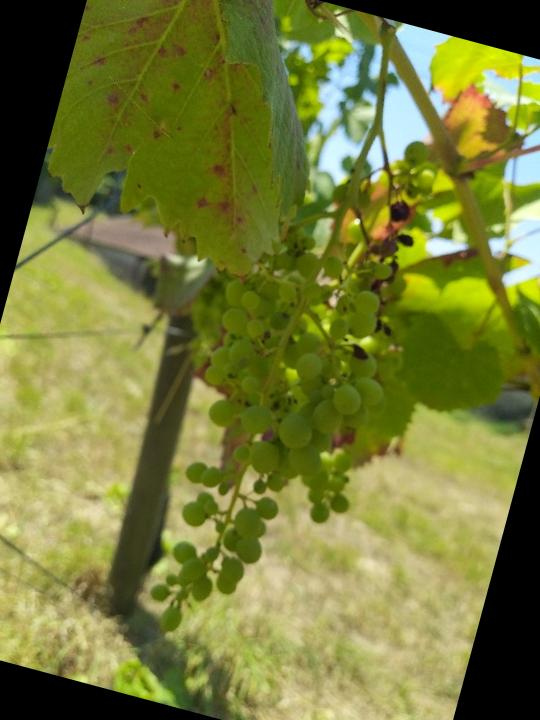grape: (130, 222, 422, 674)
